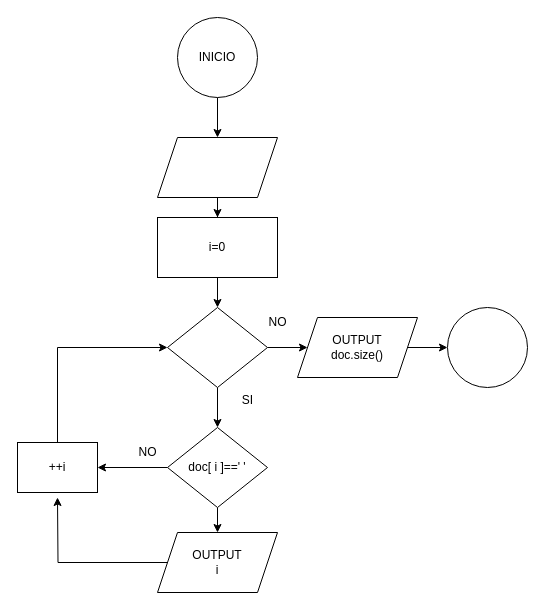
Some shapes in this 545 by 610 pixel diagram are drawn without their labels. The shapes that lost their labels are listed below. From the top down, each one's centre as x and y in pixels, then its label:
At point 217,167: "INPUT doc".
At point 217,347: "i<=doc.size()".
At point 487,347: "FIN".
